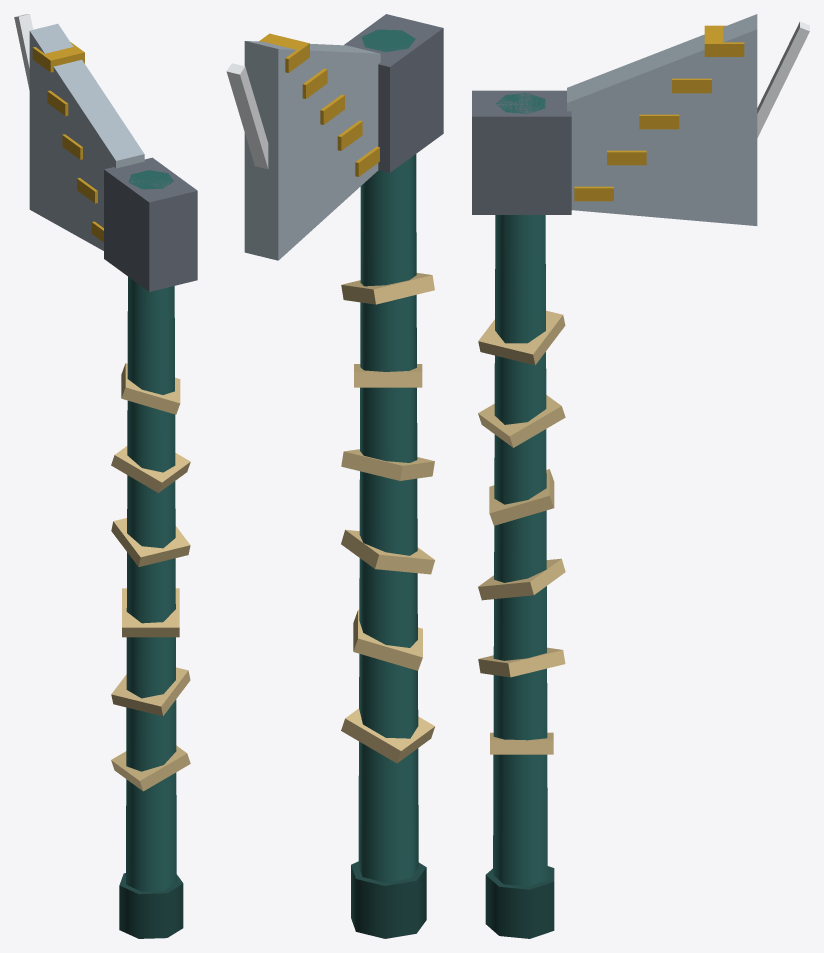
Rendered from tool_spiral.glb.
3 views of the same model, side by side, from view 1: azimuth 30°, elevation 25°; view 2: azimuth 150°, elevation 25°; view 3: azimuth 270°, elevation 25° (orthographic). The views are drawn at different scales.
Visible parts, largest first — view 1: _MeshInstance3D_867, _MeshInstance3D_870, _MeshInstance3D_869, _MeshInstance3D_868, _MeshInstance3D_880, _MeshInstance3D_878, _MeshInstance3D_881, _MeshInstance3D_877, _MeshInstance3D_879, _MeshInstance3D_882, _MeshInstance3D_875, _MeshInstance3D_876; view 2: _MeshInstance3D_867, _MeshInstance3D_870, _MeshInstance3D_869, _MeshInstance3D_868, _MeshInstance3D_876, _MeshInstance3D_877, _MeshInstance3D_879, _MeshInstance3D_882, _MeshInstance3D_880, _MeshInstance3D_878, _MeshInstance3D_881, _MeshInstance3D_875; view 3: _MeshInstance3D_867, _MeshInstance3D_870, _MeshInstance3D_869, _MeshInstance3D_868, _MeshInstance3D_882, _MeshInstance3D_881, _MeshInstance3D_879, _MeshInstance3D_876, _MeshInstance3D_880, _MeshInstance3D_878, _MeshInstance3D_877, _MeshInstance3D_875.
Boxes of the visible parts, bbox=[...] form: _MeshInstance3D_867: bbox=[126, 170, 176, 891]; _MeshInstance3D_870: bbox=[29, 23, 144, 250]; _MeshInstance3D_869: bbox=[104, 157, 197, 291]; _MeshInstance3D_868: bbox=[119, 873, 183, 938]; _MeshInstance3D_880: bbox=[111, 518, 190, 566]; _MeshInstance3D_878: bbox=[111, 667, 190, 716]; _MeshInstance3D_881: bbox=[111, 446, 190, 492]; _MeshInstance3D_877: bbox=[111, 745, 190, 791]; _MeshInstance3D_879: bbox=[122, 588, 179, 637]; _MeshInstance3D_882: bbox=[121, 363, 180, 414]; _MeshInstance3D_875: bbox=[32, 42, 84, 72]; _MeshInstance3D_876: bbox=[14, 14, 33, 90]; _MeshInstance3D_867: bbox=[358, 29, 418, 882]; _MeshInstance3D_870: bbox=[244, 41, 380, 260]; _MeshInstance3D_869: bbox=[344, 14, 443, 172]; _MeshInstance3D_868: bbox=[351, 861, 426, 938]; _MeshInstance3D_876: bbox=[226, 63, 268, 169]; _MeshInstance3D_877: bbox=[341, 708, 434, 763]; _MeshInstance3D_879: bbox=[341, 529, 434, 574]; _MeshInstance3D_882: bbox=[341, 273, 434, 304]; _MeshInstance3D_880: bbox=[341, 449, 434, 480]; _MeshInstance3D_878: bbox=[353, 609, 422, 670]; _MeshInstance3D_881: bbox=[354, 364, 422, 387]; _MeshInstance3D_875: bbox=[259, 33, 309, 72]; _MeshInstance3D_867: bbox=[493, 93, 547, 886]; _MeshInstance3D_870: bbox=[567, 14, 757, 225]; _MeshInstance3D_869: bbox=[472, 90, 571, 214]; _MeshInstance3D_868: bbox=[485, 866, 554, 938]; _MeshInstance3D_882: bbox=[478, 310, 565, 365]; _MeshInstance3D_881: bbox=[478, 395, 565, 447]; _MeshInstance3D_879: bbox=[478, 558, 565, 600]; _MeshInstance3D_876: bbox=[757, 21, 809, 137]; _MeshInstance3D_880: bbox=[489, 469, 554, 525]; _MeshInstance3D_878: bbox=[478, 647, 565, 677]; _MeshInstance3D_877: bbox=[490, 732, 553, 754]; _MeshInstance3D_875: bbox=[704, 25, 744, 56].
Size of the model in its own units: 0.0485 by 0.55 by 0.1867.
